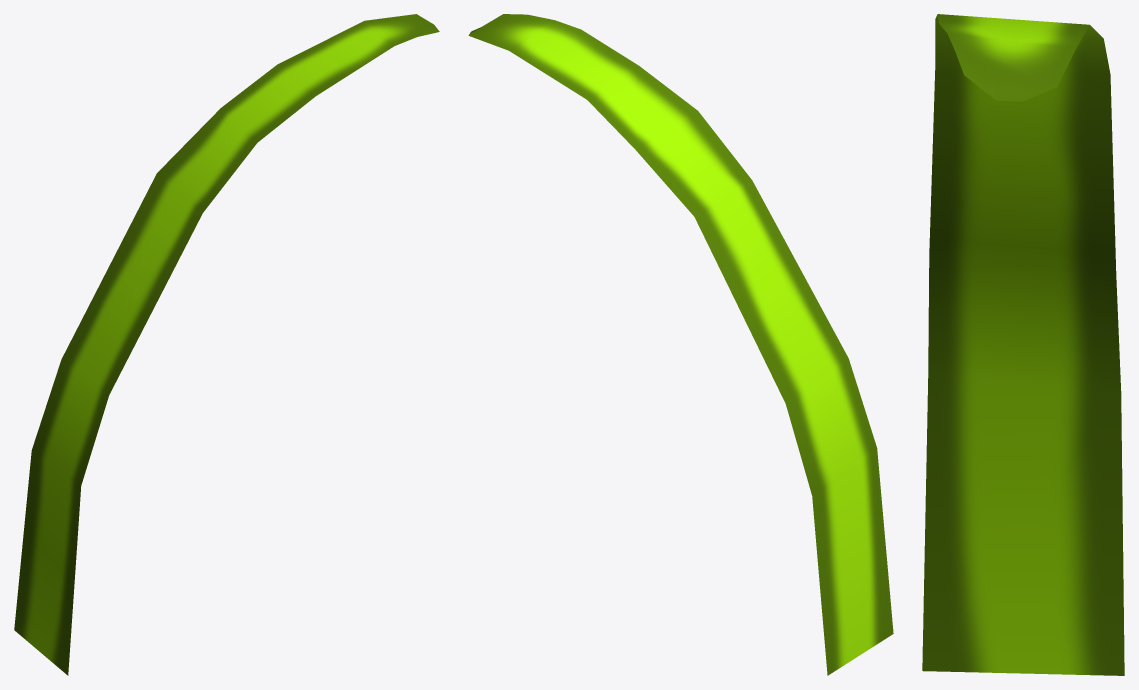
File: SingleGrass.fbx
The picture shows the model from 3 angles, left to right: view 1: azimuth 30°, elevation 25°; view 2: azimuth 150°, elevation 25°; view 3: azimuth 270°, elevation 25°; orthographic projection. The views are drawn at different scales.
Visible parts, largest first — view 1: Plane; view 2: Plane; view 3: Plane.
Boxes of the visible parts, bbox=[...] form: Plane: bbox=[14, 14, 439, 675]; Plane: bbox=[468, 14, 893, 675]; Plane: bbox=[922, 14, 1124, 675].
Bounding box in the file's own units: 84.21 × 111 × 22.21.
